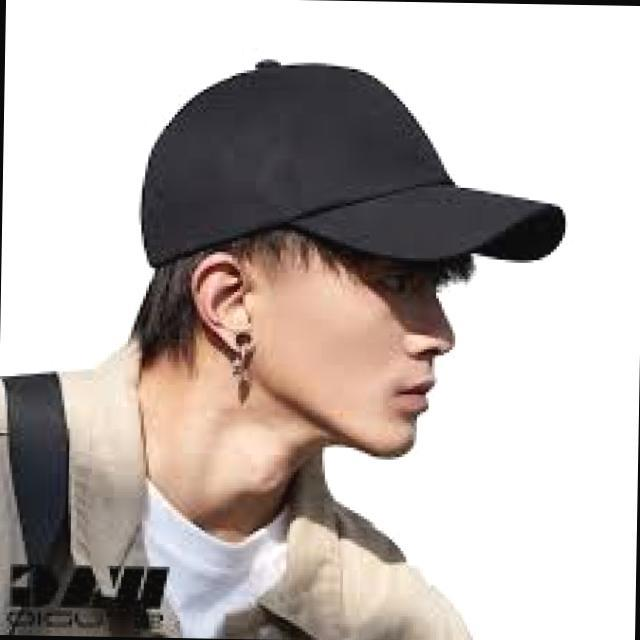cap: (117, 41, 597, 296)
